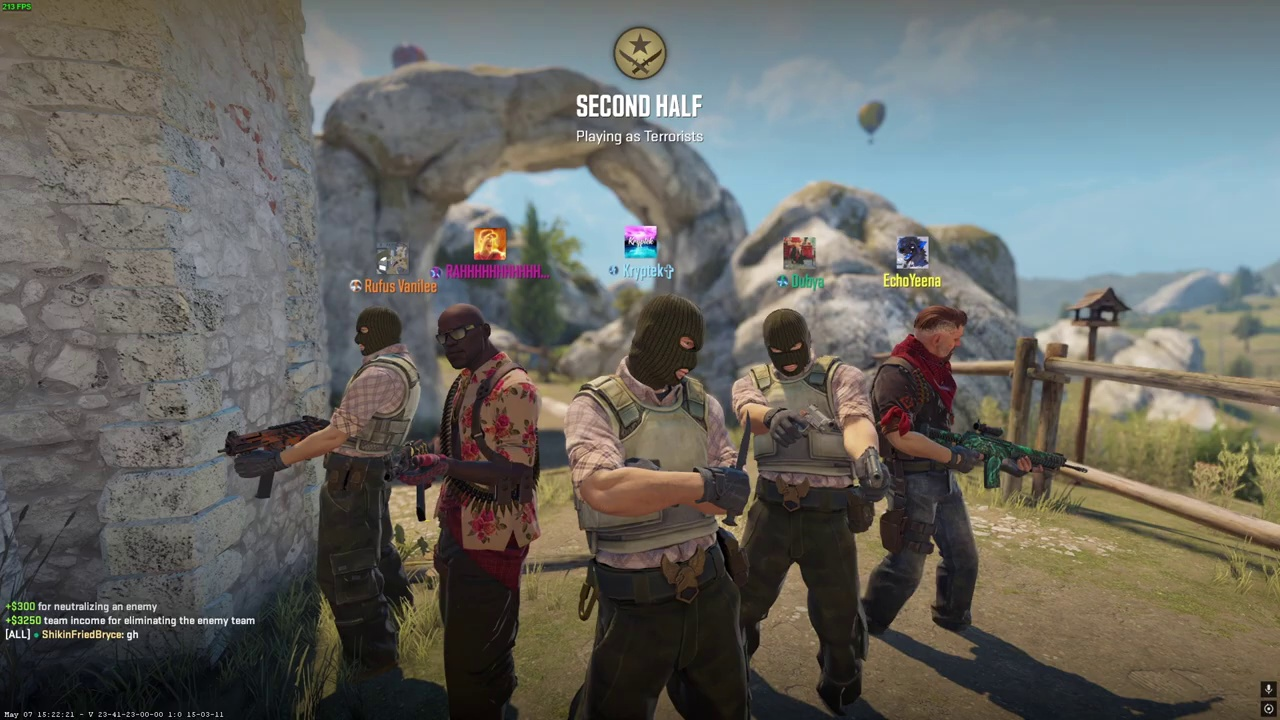Terrorist: (565, 297, 745, 720), (732, 308, 870, 720), (299, 309, 422, 676), (857, 303, 987, 644), (436, 304, 539, 712)
